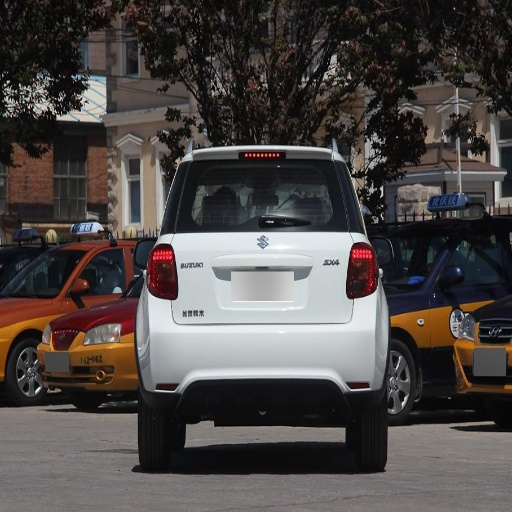back_bumper: (115, 292, 387, 402)
front_glass: (11, 253, 71, 298)
trunk: (149, 235, 355, 325)
